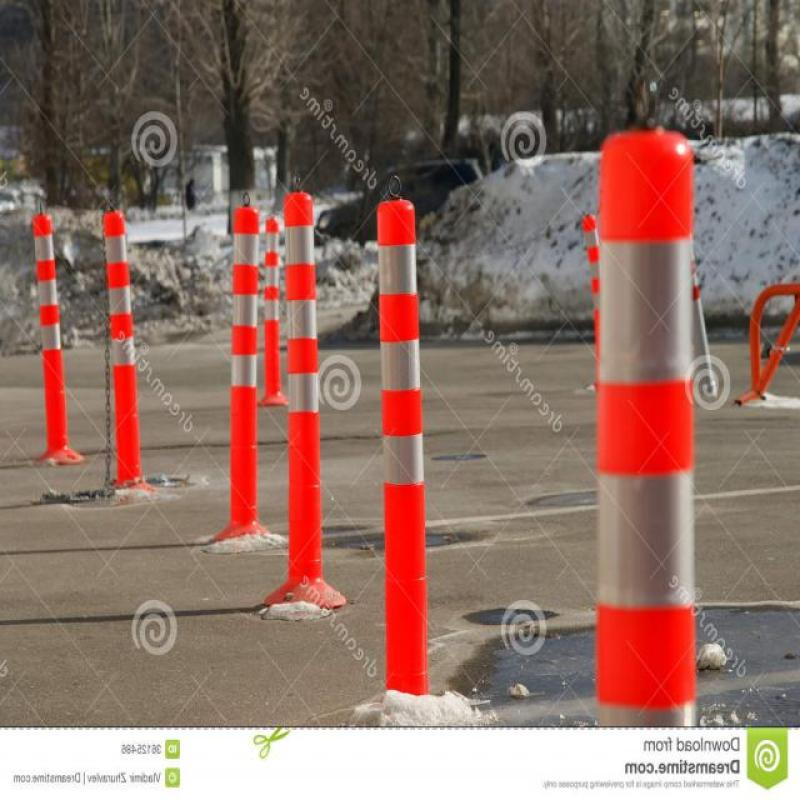pillar: (595, 121, 704, 721), (374, 191, 426, 712), (268, 187, 324, 632), (215, 196, 262, 541), (100, 198, 144, 504), (29, 200, 64, 471), (692, 242, 726, 392), (261, 208, 279, 418), (576, 212, 598, 292)
